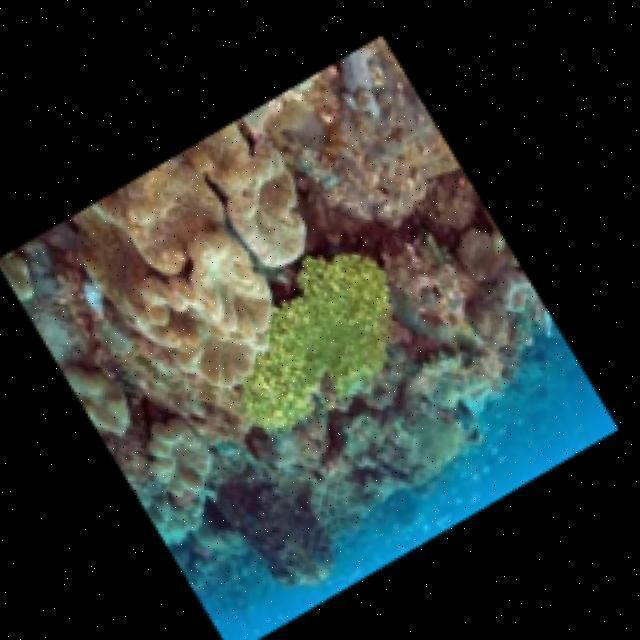Healthy Coral: (271, 251, 390, 419)
